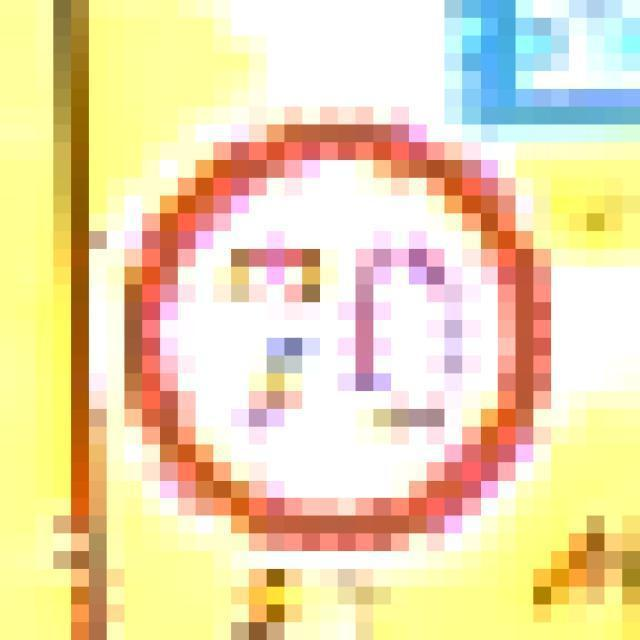Ograniczenie predkosci do 70: (131, 125, 535, 553)
